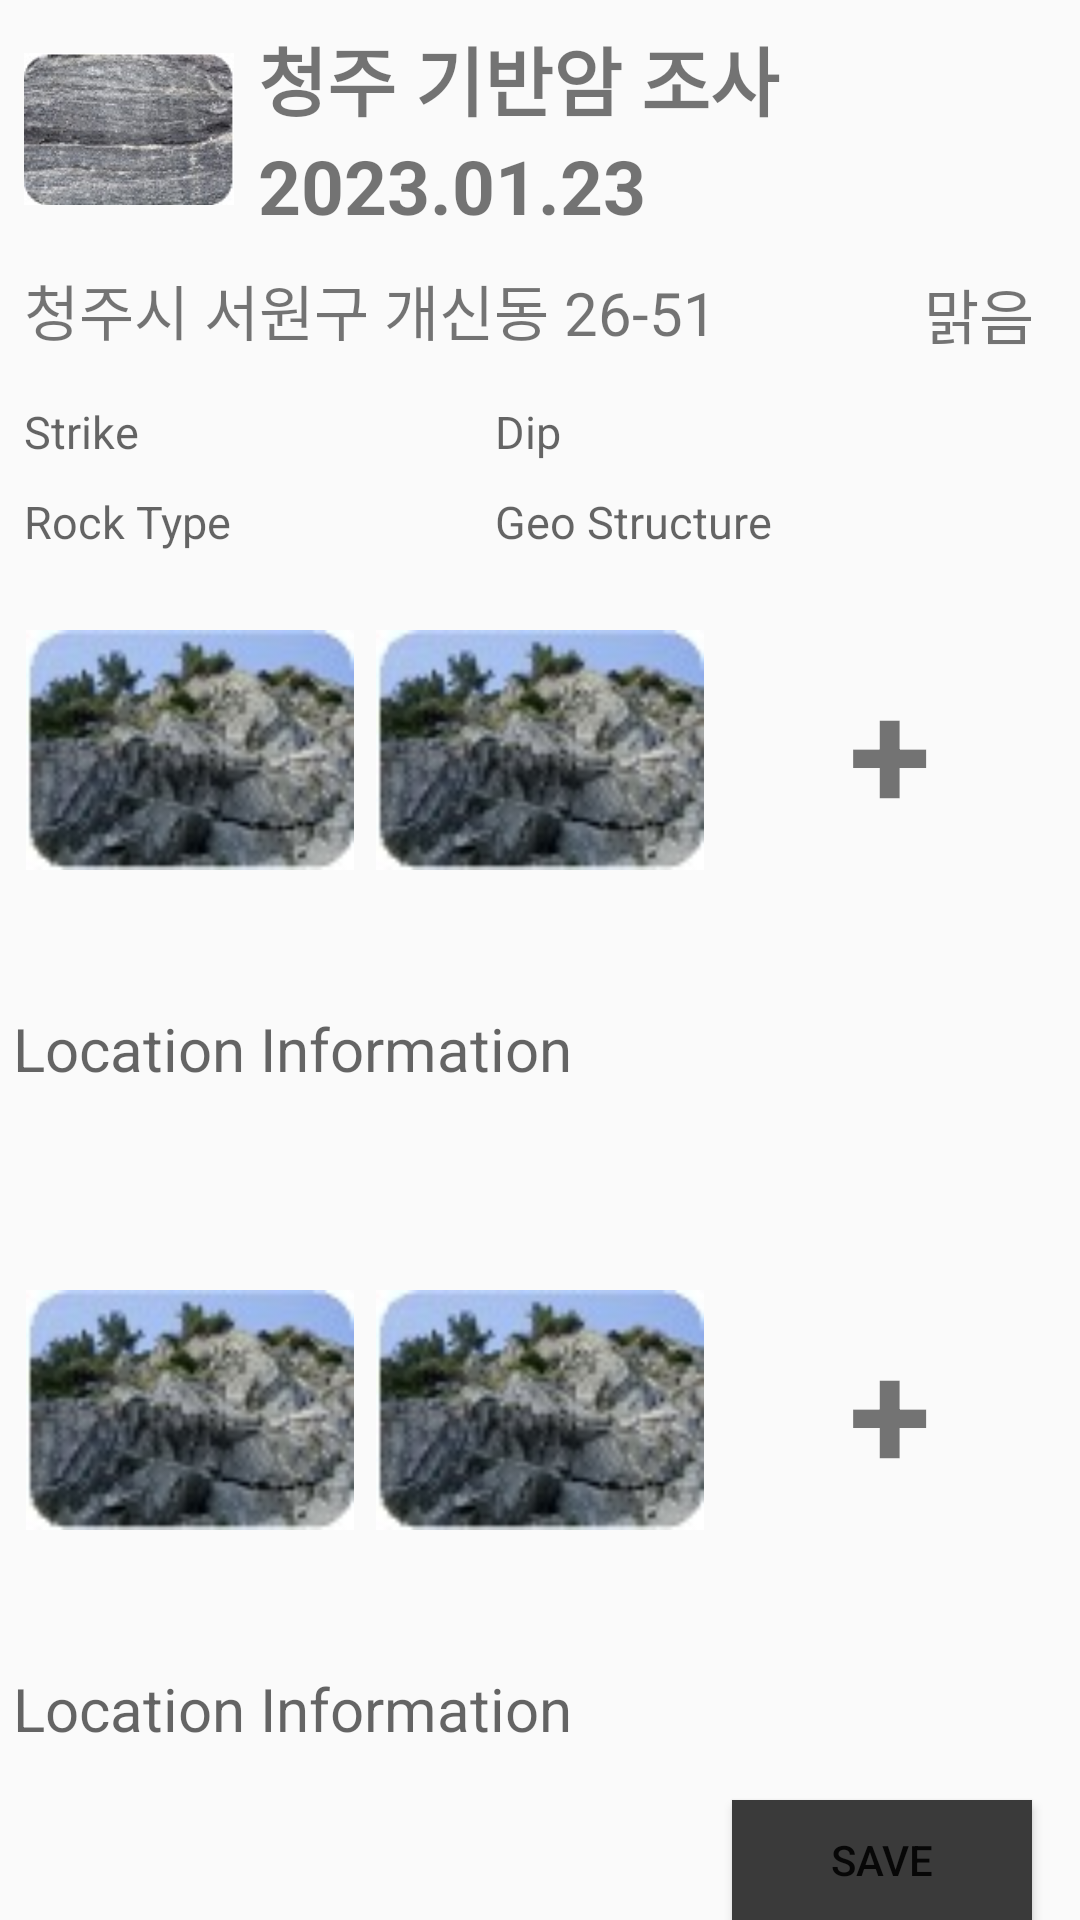

Screen size 1080px x 1920px. Icon name, then its box in pixels as (x1, y1, x2, y2):
photo: (24, 54, 233, 205), (28, 630, 354, 870), (378, 630, 704, 870), (28, 1290, 354, 1530), (378, 1290, 704, 1530)
